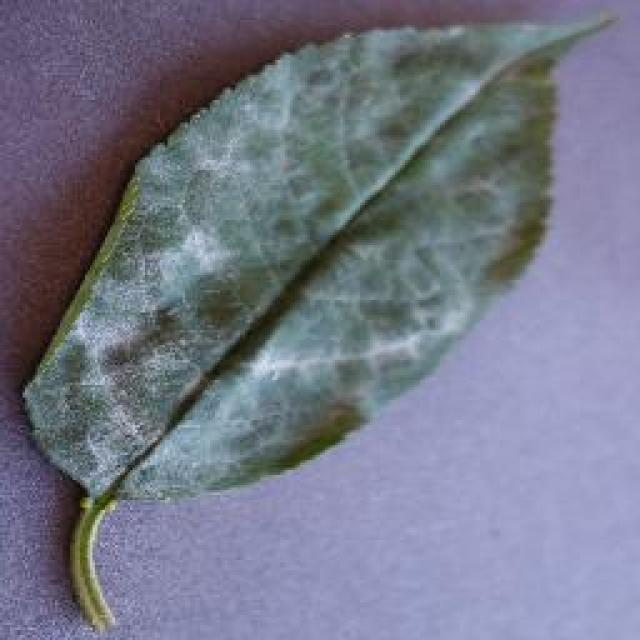Cherry___Powdery_mildew: (8, 8, 610, 638)
